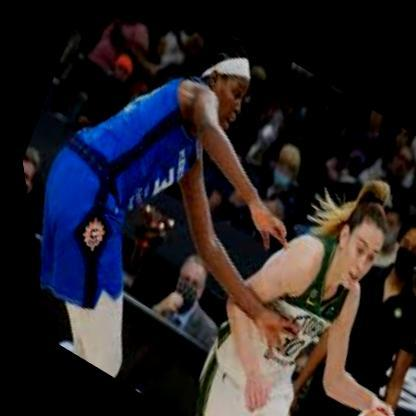basketball: (310, 382, 399, 416)
